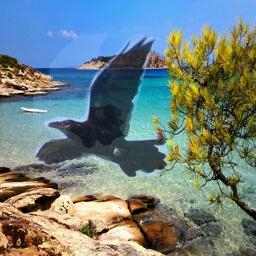Crow: (33, 34, 167, 177)
